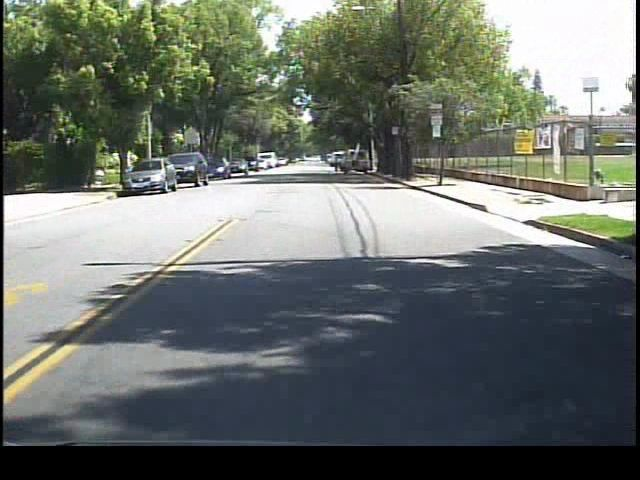person: (328, 147, 343, 173)
